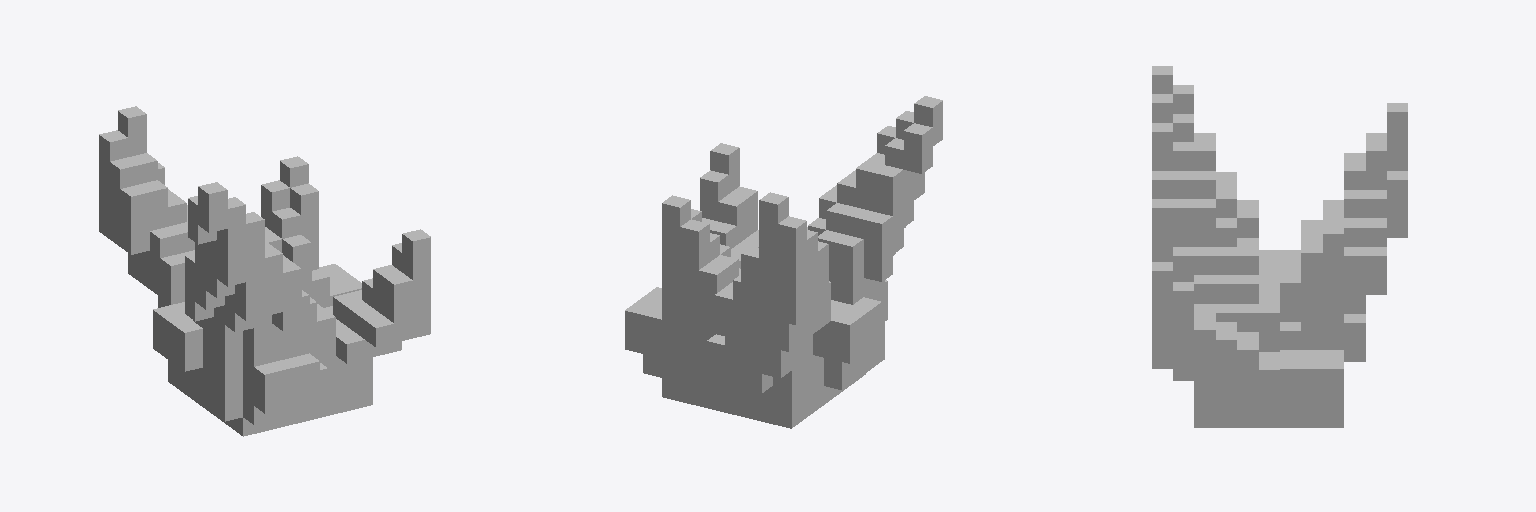
File: MineralDeposite_Middle-0.obj
The picture shows the model from 3 angles: view 1: azimuth 30°, elevation 25°; view 2: azimuth 150°, elevation 25°; view 3: azimuth 270°, elevation 25°; orthographic projection.
Parts seen in each view (by area): view 1: Untitled.001; view 2: Untitled.001; view 3: Untitled.001.
Part boxes in pixels (bbox=[...]): Untitled.001: bbox=[99, 106, 430, 436]; Untitled.001: bbox=[625, 96, 942, 428]; Untitled.001: bbox=[1152, 66, 1407, 427].
Size of the model in its own units: 1.2 by 1.4 by 1.2.